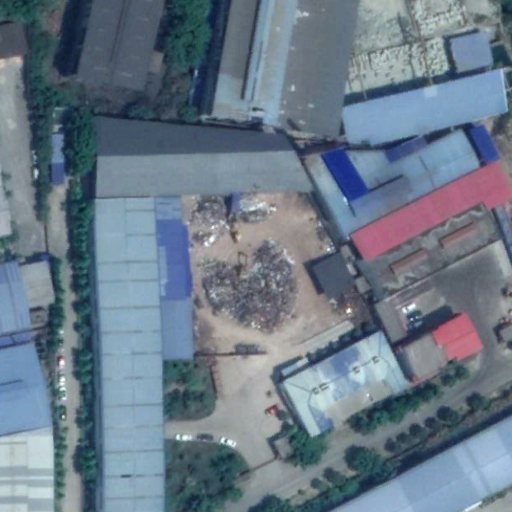msw: (183, 188, 297, 330)
